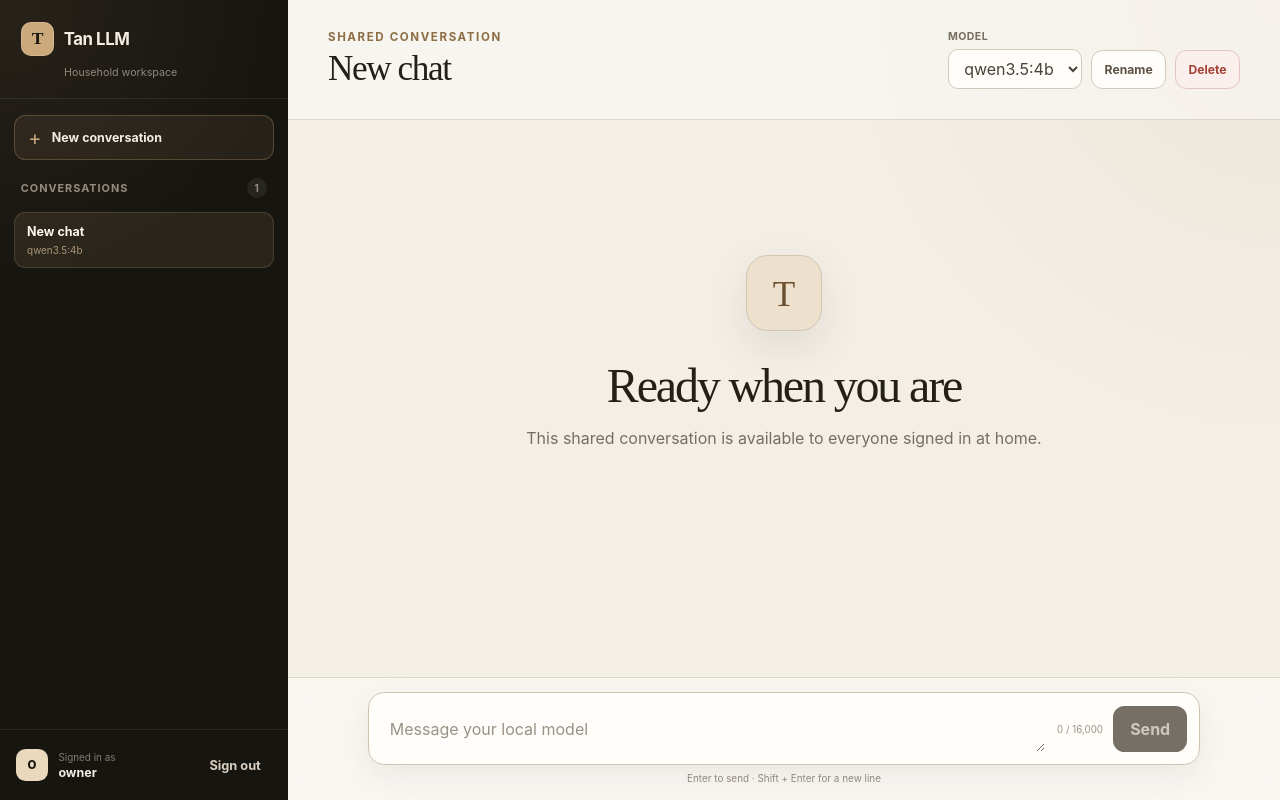
Test: shared conversation management › creates a local title from the first accepted message
The width and height of the screenshot is (1280, 800).
Check: the heading "Ready when you are" is shown, box x1=607 y1=358 x2=961 y2=413
In the text box labelled "Message": (713, 729) x1=381 y1=705 x2=1045 y2=752, type "Plan our weekend meals"
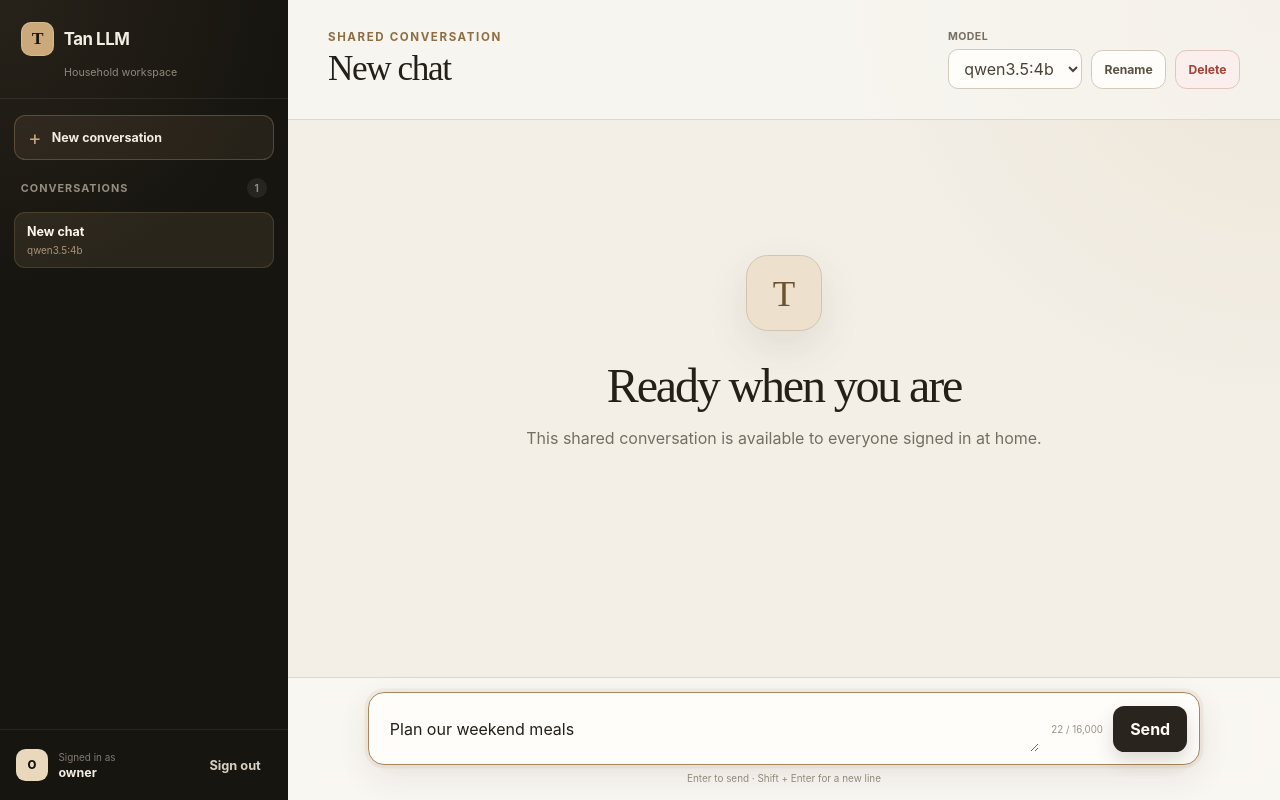
Click the button "Send": (1150, 729) x1=1113 y1=706 x2=1187 y2=752
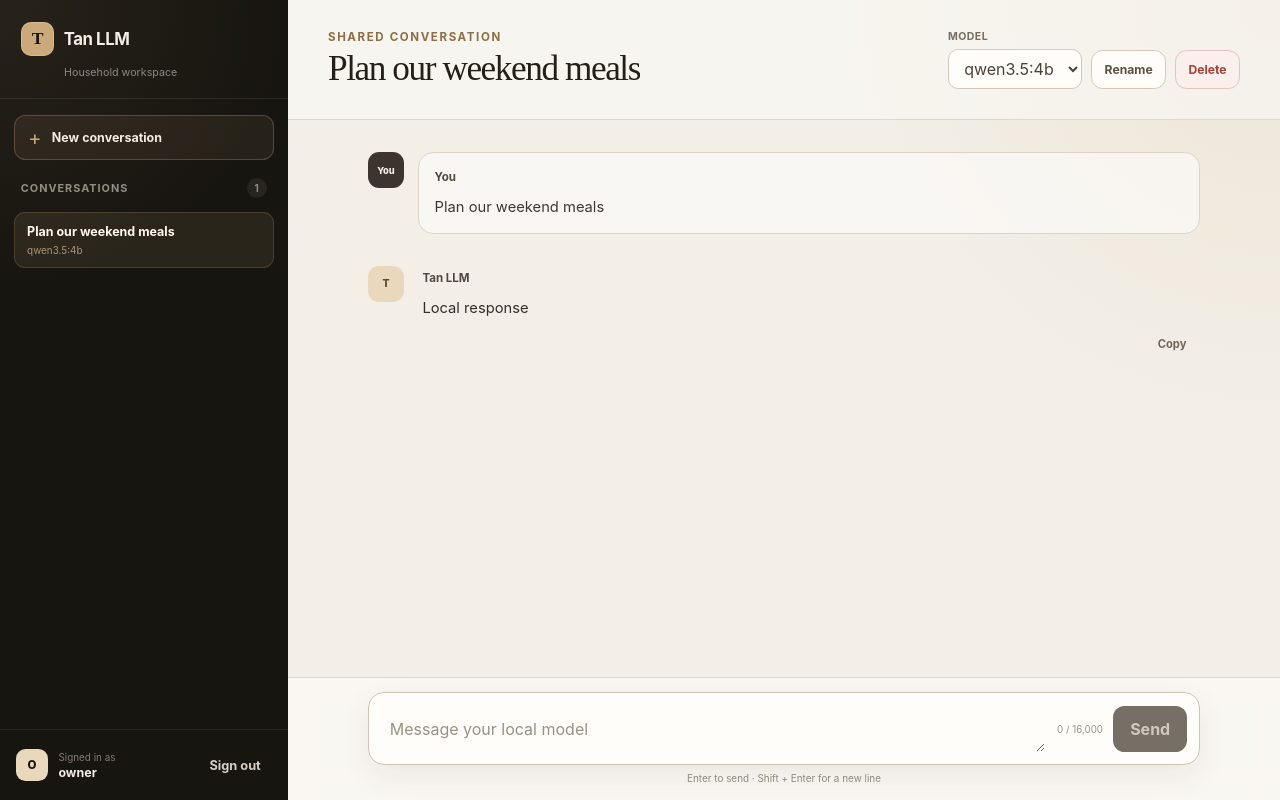
Check: the heading "Plan our weekend meals" is shown, box x1=328 y1=49 x2=640 y2=89
